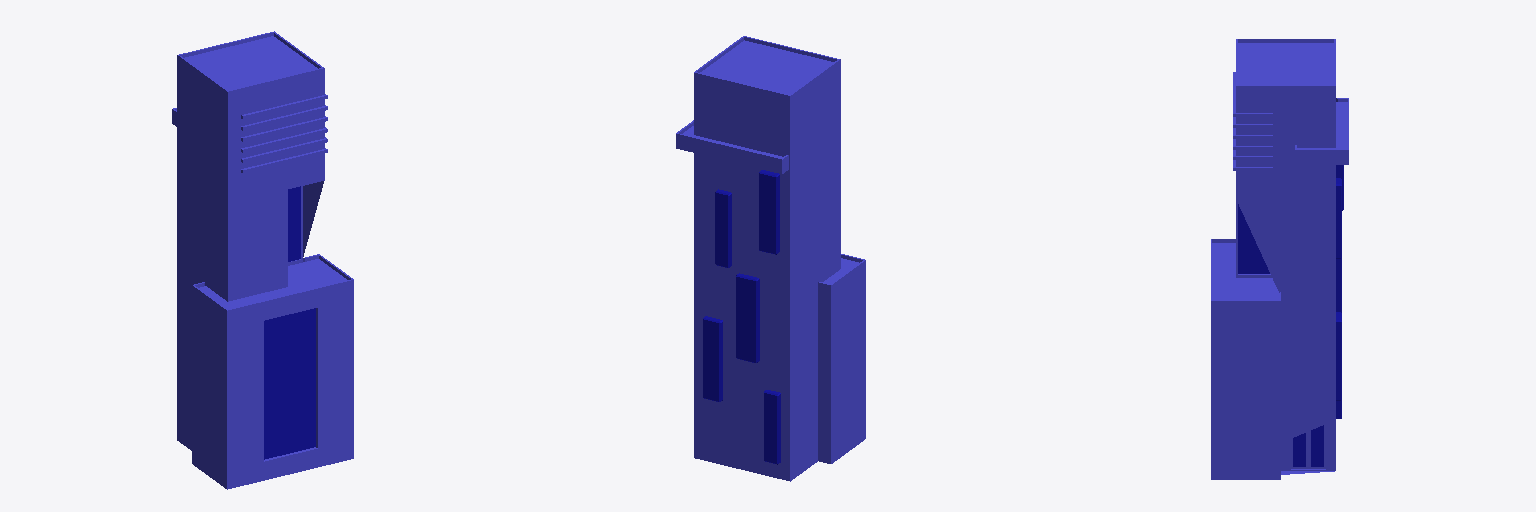
Rendered from Building2.obj.
The picture shows the model from 3 angles: view 1: azimuth 30°, elevation 25°; view 2: azimuth 150°, elevation 25°; view 3: azimuth 270°, elevation 25°; orthographic projection.
Parts seen in each view (by area): view 1: Main, Wood, Fenetre, Grass; view 2: Main, Wood, Fenetre, Grass, Cadre_fentre; view 3: Main, Wood, Grass, Fenetre.
Boxes of the visible parts, <box> form: Main: <box>172,31,353,450</box>; Wood: <box>192,94,353,489</box>; Fenetre: <box>264,186,315,459</box>; Grass: <box>184,36,346,308</box>; Main: <box>676,36,864,481</box>; Wood: <box>818,260,865,463</box>; Fenetre: <box>703,170,780,463</box>; Grass: <box>683,40,858,283</box>; Cadre_fentre: <box>703,172,780,464</box>; Main: <box>1211,39,1348,474</box>; Wood: <box>1211,72,1280,479</box>; Grass: <box>1212,43,1347,299</box>; Fenetre: <box>1238,165,1342,466</box>.
Bounding box in the file's own units: 36.24 × 105 × 34.28.